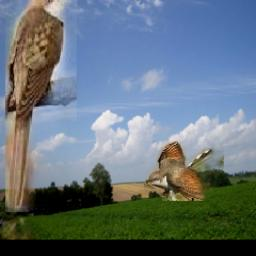Cuckoo: (6, 0, 78, 213), (145, 142, 225, 202)
